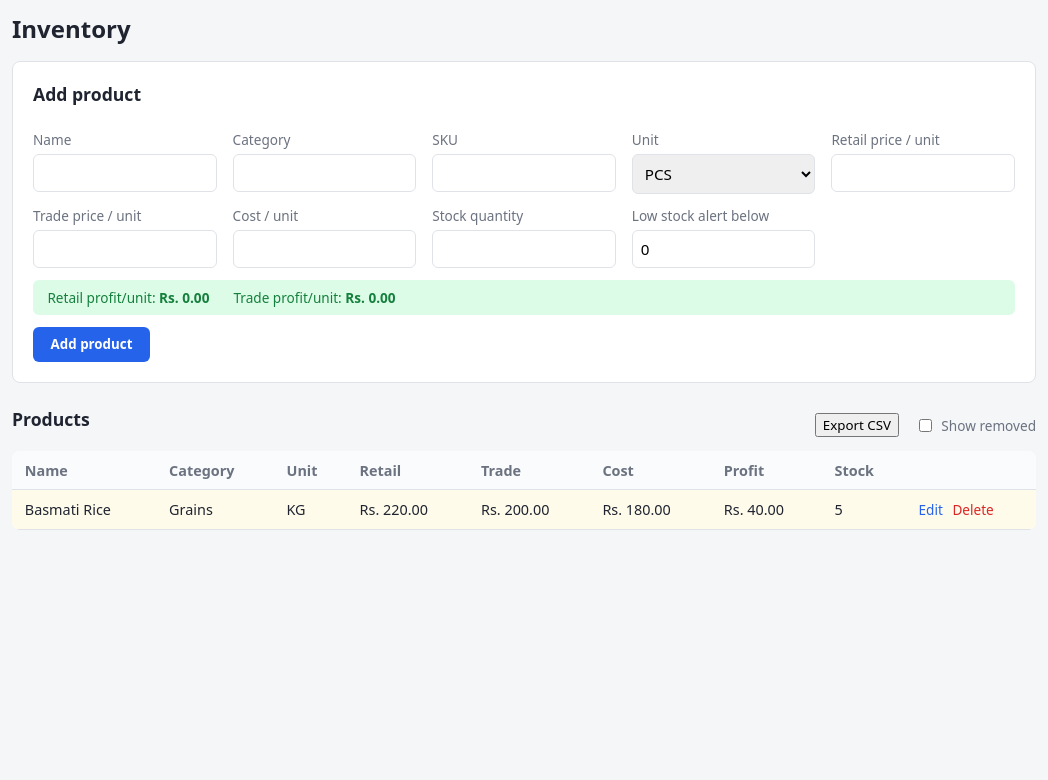
Inventory page › shows an error if saving a product fails
The width and height of the screenshot is (1048, 780).
Expected: the text "Basmati Rice" is shown, [12, 490, 156, 530]
Type "X" into the field labelled "Name".
click(125, 173); type("X")  # box [33, 154, 217, 192]
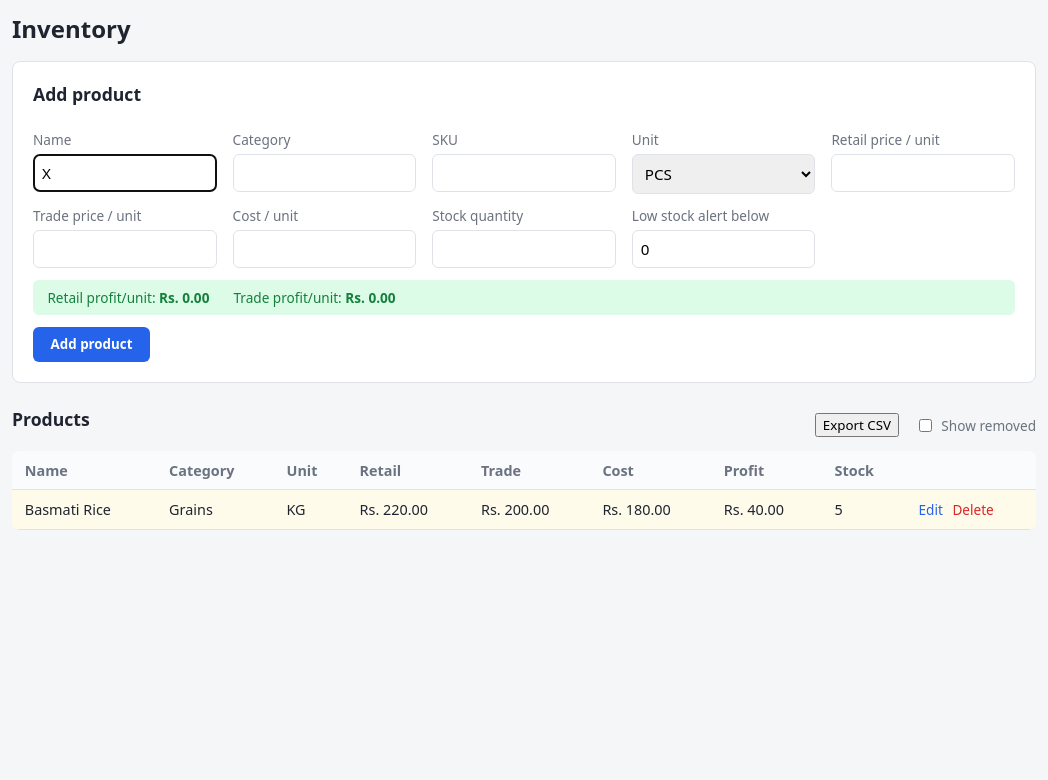
Type "1" into the number field labelled "Retail price / unit".
click(923, 173); type("1")  # box [831, 154, 1015, 192]
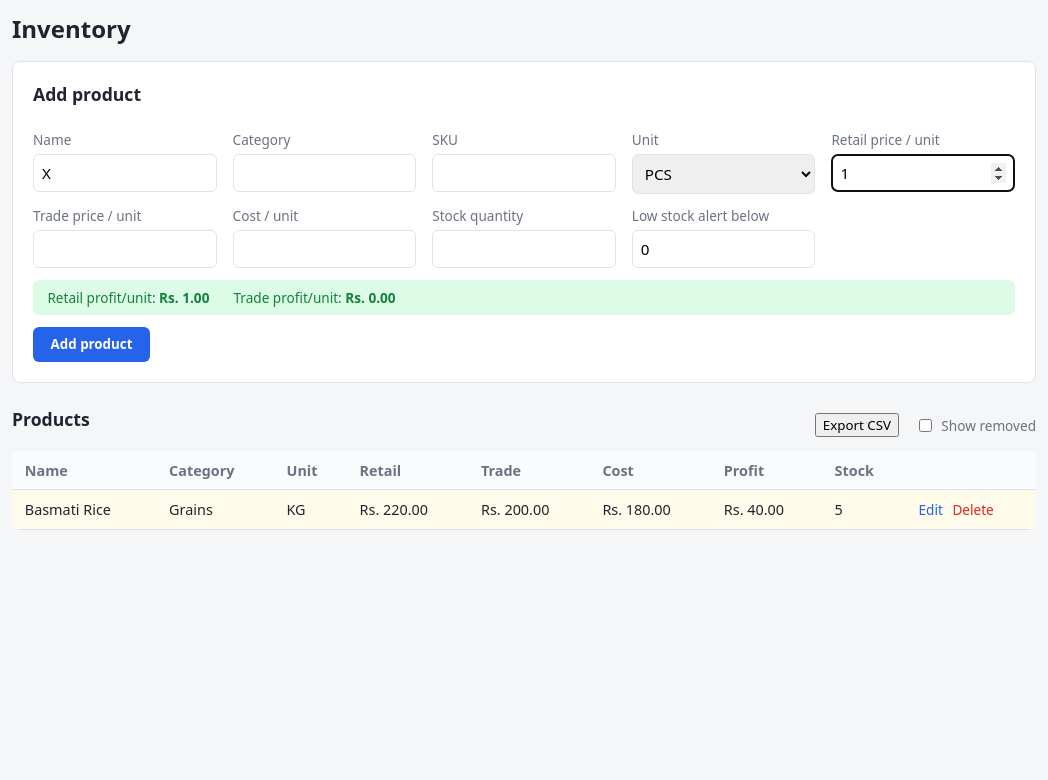
Type "1" into the number field labelled "Trade price / unit".
click(125, 249); type("1")  # box [33, 230, 217, 268]
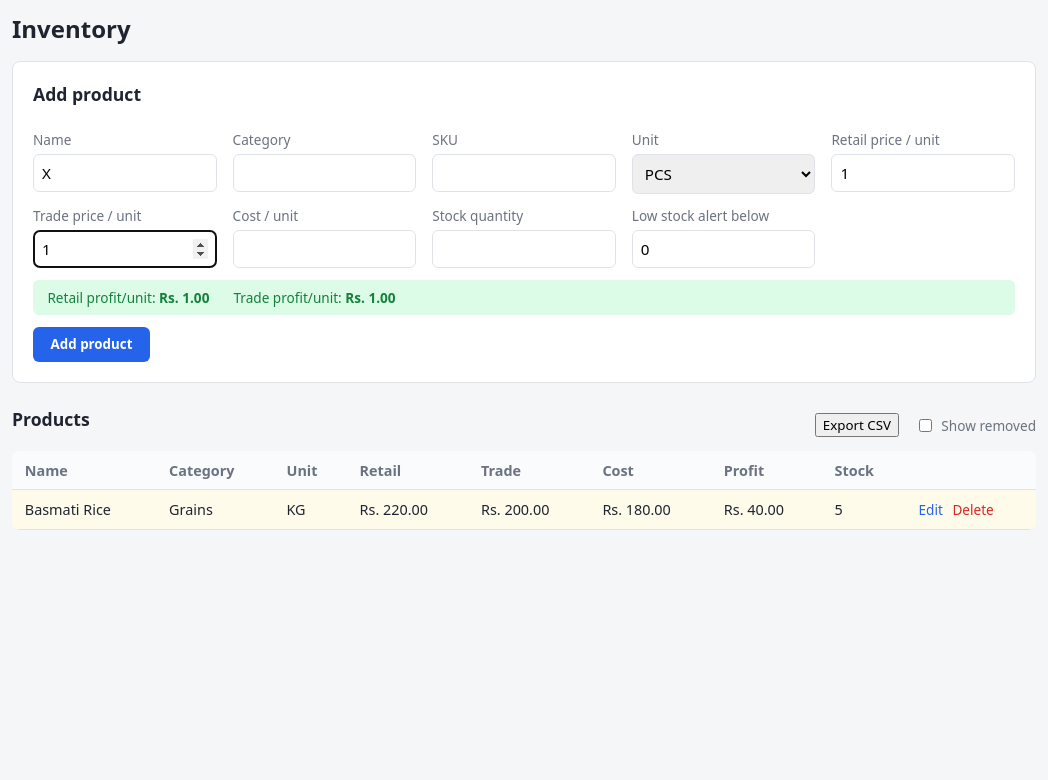
Type "1" into the number field labelled "Cost / unit".
click(324, 249); type("1")  # box [233, 230, 416, 268]
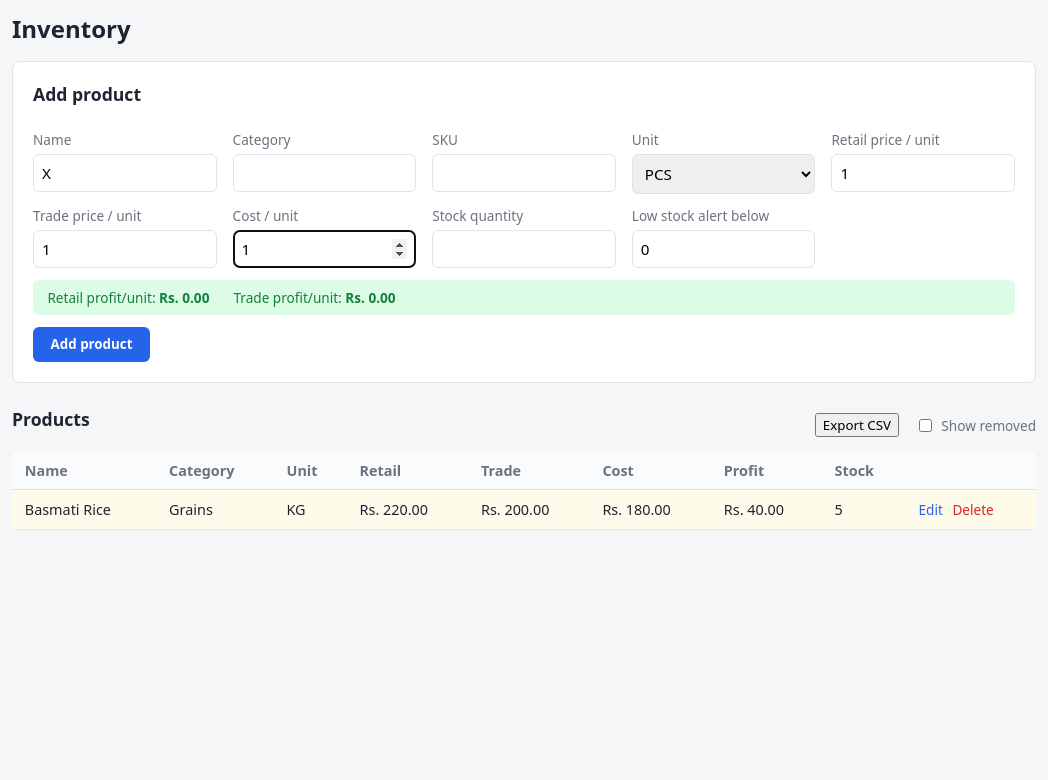
Type "1" into the number field labelled "Stock quantity".
click(524, 249); type("1")  # box [432, 230, 616, 268]
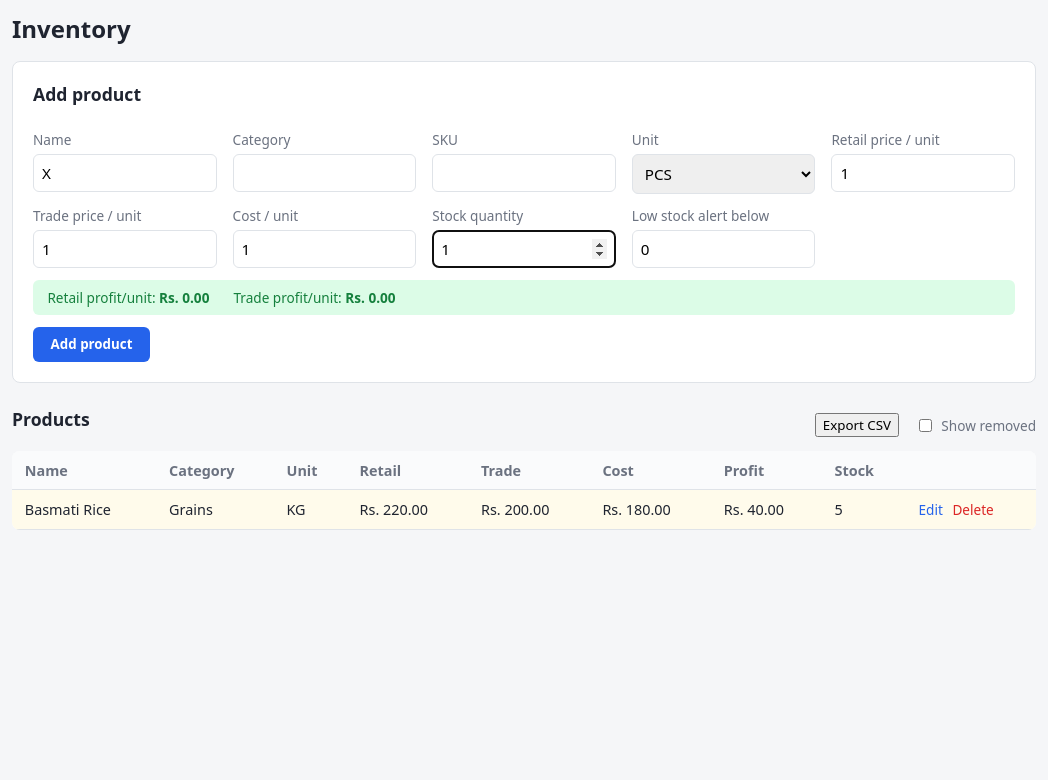
Click the button "Add product".
click(92, 344)  # box [33, 327, 150, 362]
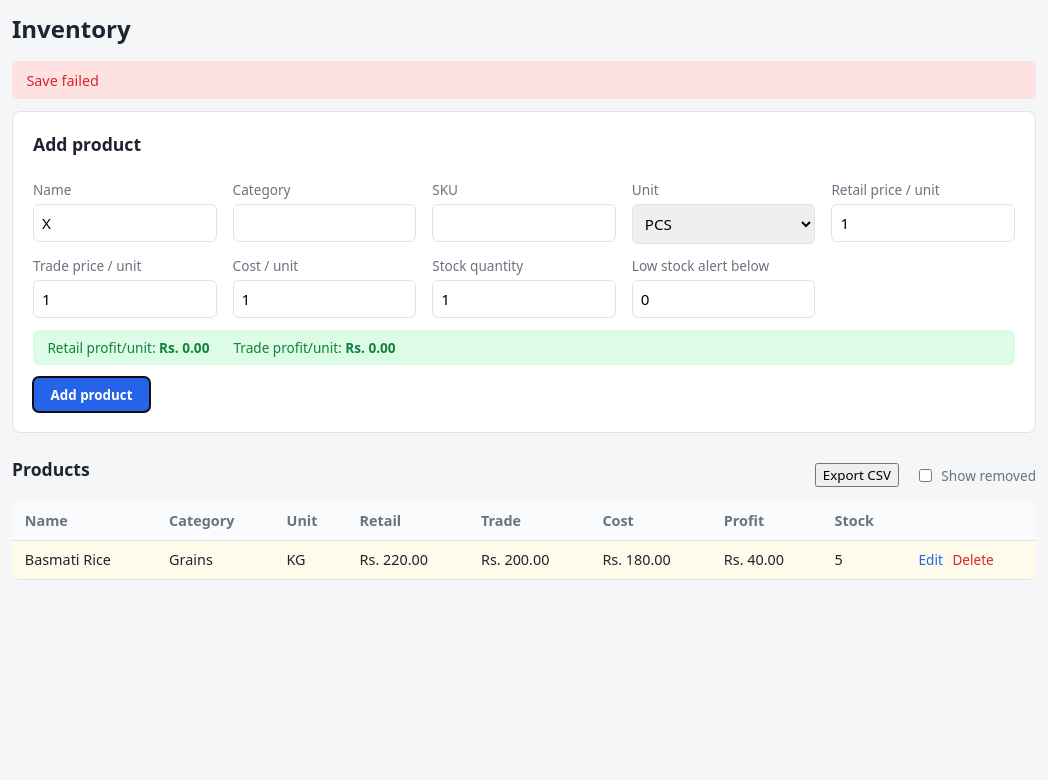
Now the text "Save failed" is shown, box [12, 61, 1036, 99]
